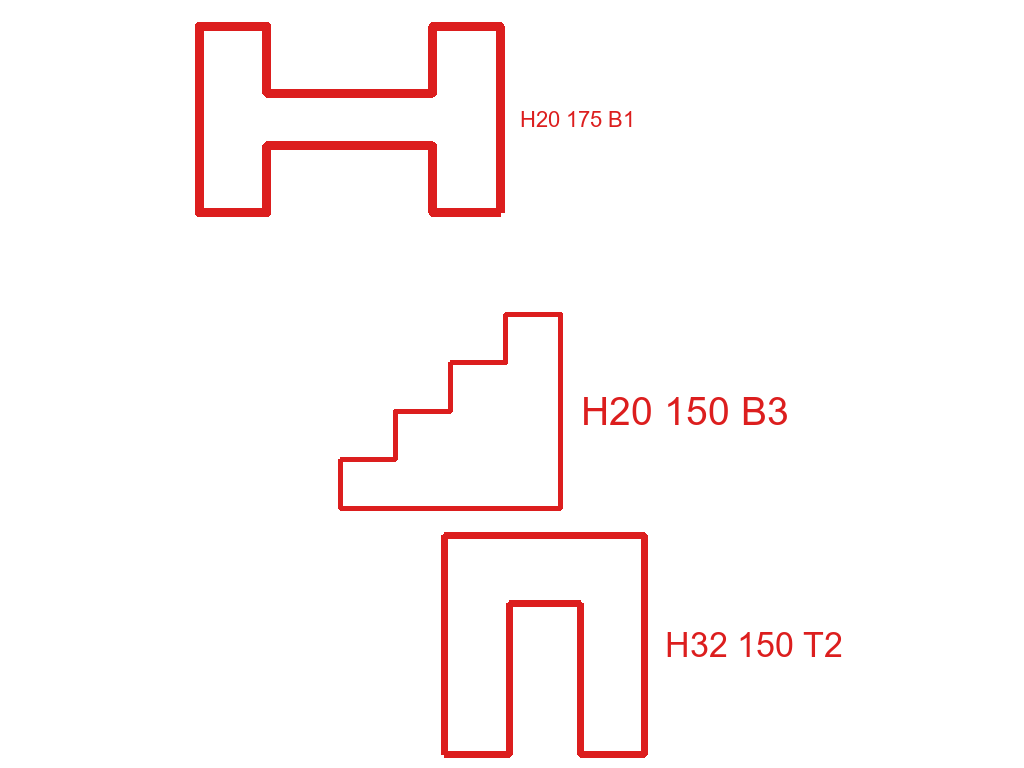shape: (193, 20, 507, 219), (439, 530, 650, 760), (336, 310, 565, 513)
text: (579, 395, 791, 427), (663, 630, 845, 659), (518, 109, 637, 129)
